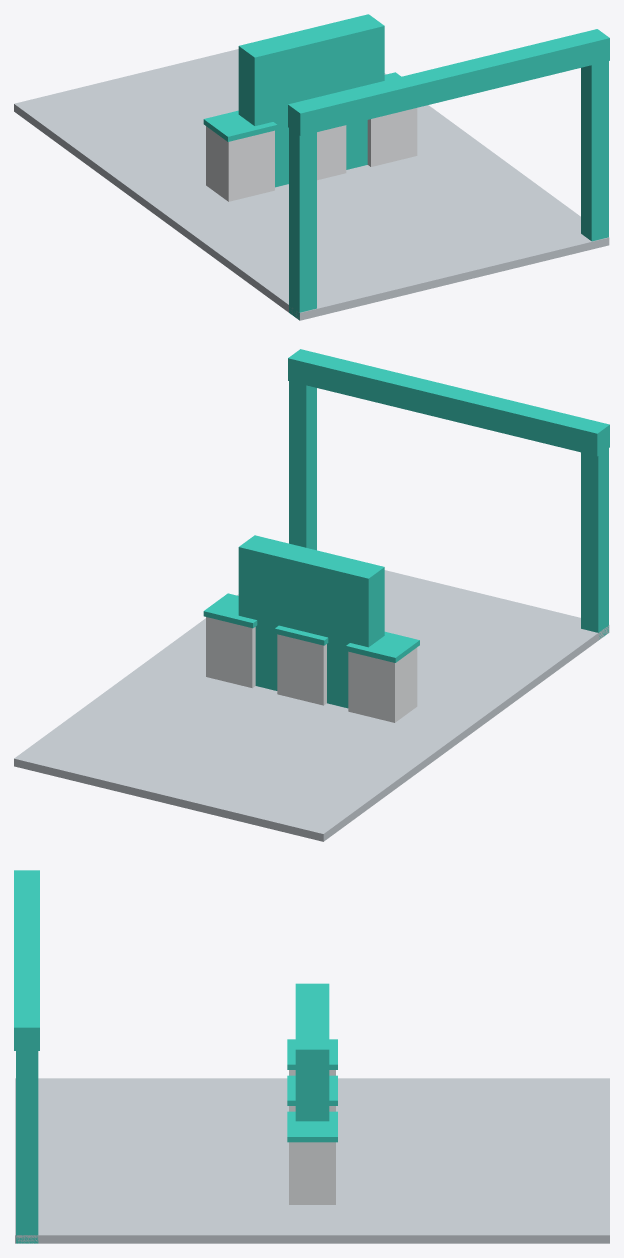
The picture shows the model from 3 angles, top to bottom: view 1: azimuth 30°, elevation 25°; view 2: azimuth 150°, elevation 25°; view 3: azimuth 270°, elevation 25°; orthographic projection. The views are drawn at different scales.
Parts seen in each view (by area): view 1: Exhibition Booth Concept; view 2: Exhibition Booth Concept; view 3: Exhibition Booth Concept.
Part boxes in pixels (left/top/right/bottom): Exhibition Booth Concept: left=14, top=14, right=609, bottom=320; Exhibition Booth Concept: left=14, top=349, right=609, bottom=841; Exhibition Booth Concept: left=14, top=870, right=609, bottom=1243.
Bounding box in the file's own units: 5 × 3.2 × 8.01.
